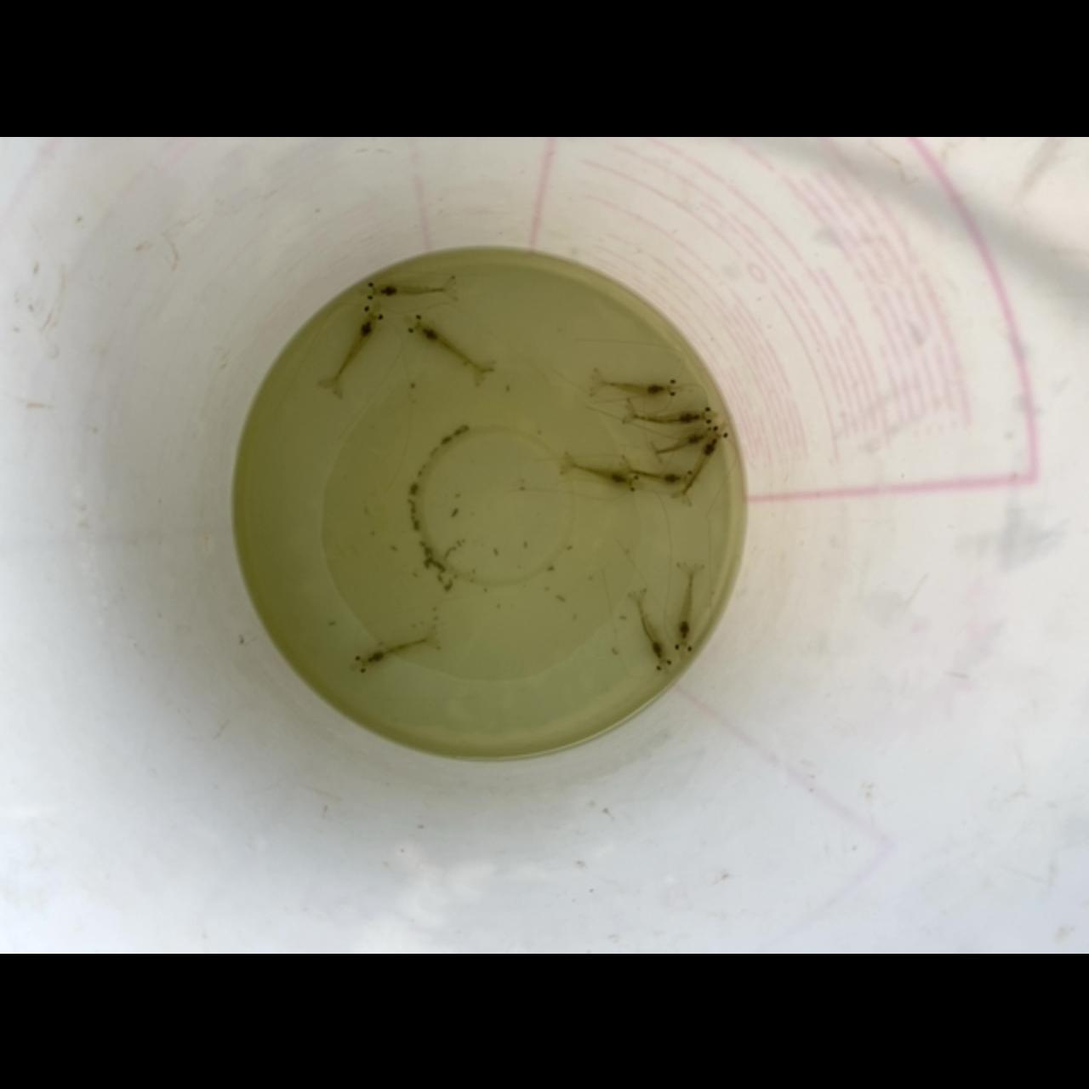round_base: (249, 265, 732, 738)
top_shrimp: (416, 322, 486, 372), (332, 313, 377, 385), (682, 432, 721, 495), (637, 596, 667, 662), (364, 637, 432, 664), (567, 460, 634, 487), (655, 427, 709, 453), (676, 566, 693, 643), (626, 464, 687, 485), (629, 409, 706, 425), (599, 381, 671, 396), (374, 283, 450, 296)
